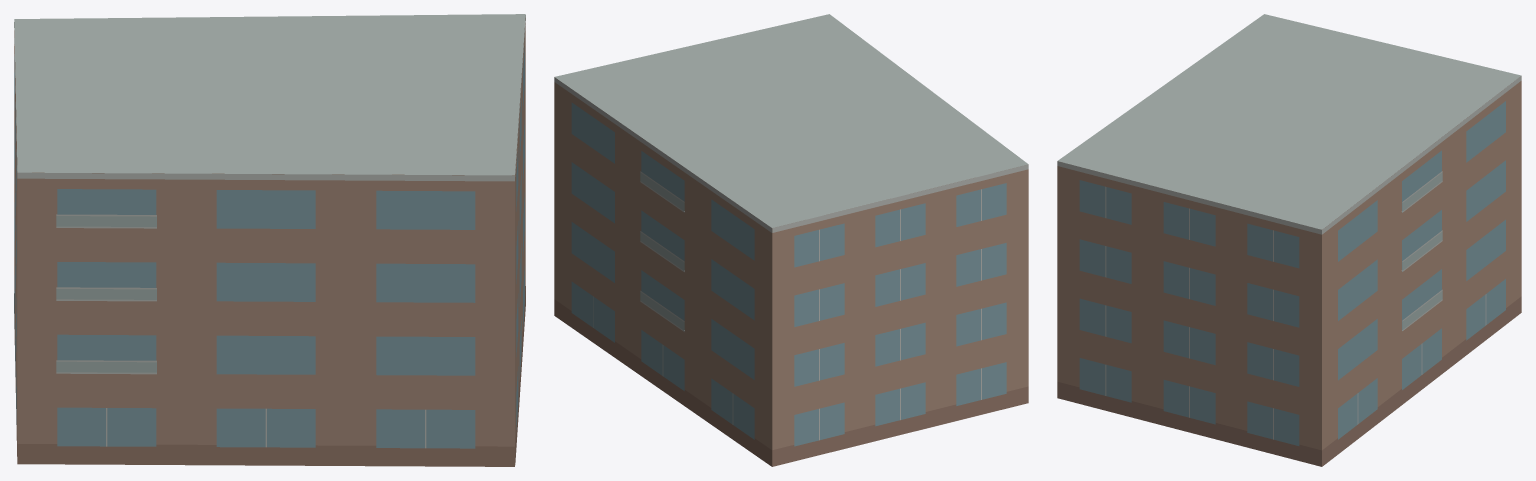
File: survey-upis-33039674.glb
The picture shows the model from 3 angles, left to right: view 1: azimuth 30°, elevation 25°; view 2: azimuth 150°, elevation 25°; view 3: azimuth 270°, elevation 25°; orthographic projection. The views are drawn at different scales.
Parts seen in each view (by area): view 1: survey-upis-33039674.tmp; view 2: survey-upis-33039674.tmp; view 3: survey-upis-33039674.tmp.
Part boxes in pixels (<box>): survey-upis-33039674.tmp: <box>14,14,525,466</box>; survey-upis-33039674.tmp: <box>554,14,1028,466</box>; survey-upis-33039674.tmp: <box>1057,14,1521,466</box>.
Size of the model in its own units: 23.04 by 11.8 by 20.95.
